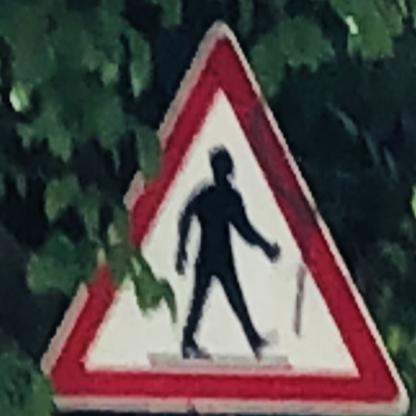Pedestrians: (24, 15, 410, 413)
